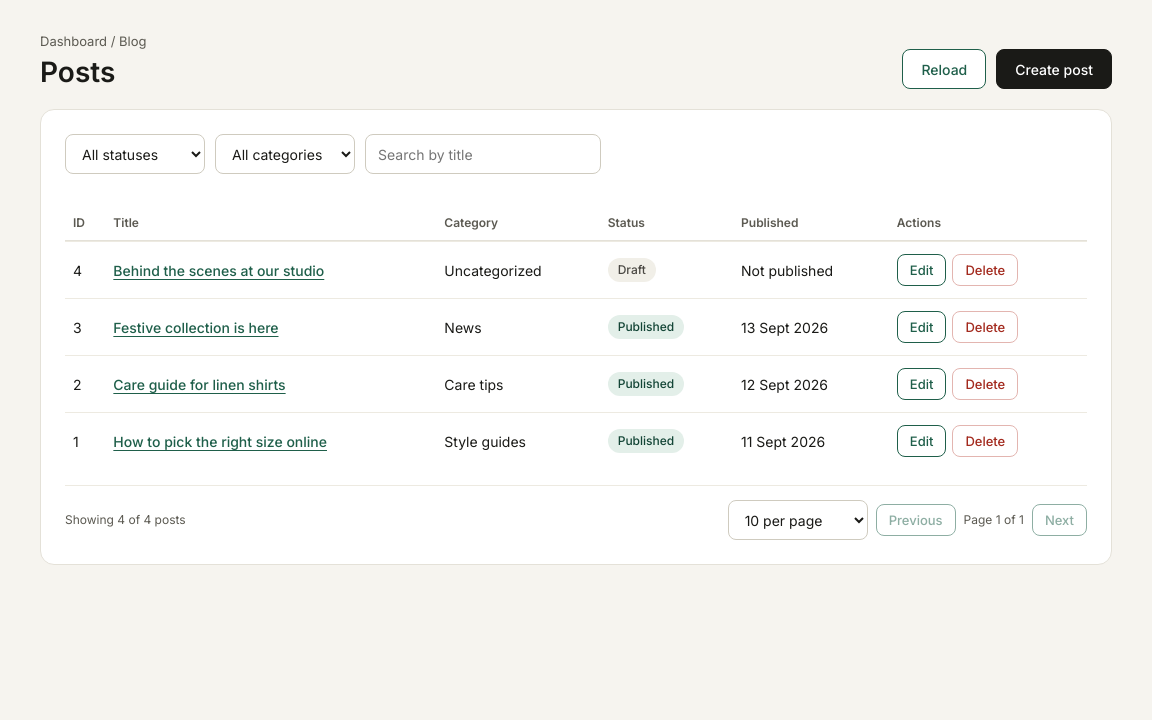
Test case: Posts › lists posts and filters by search
Check: the button "Care guide for linen shirts" is shown, box [113,374,286,395]
In the search field named "Search posts by title": (483, 154) [365,134,601,174], type "festive"
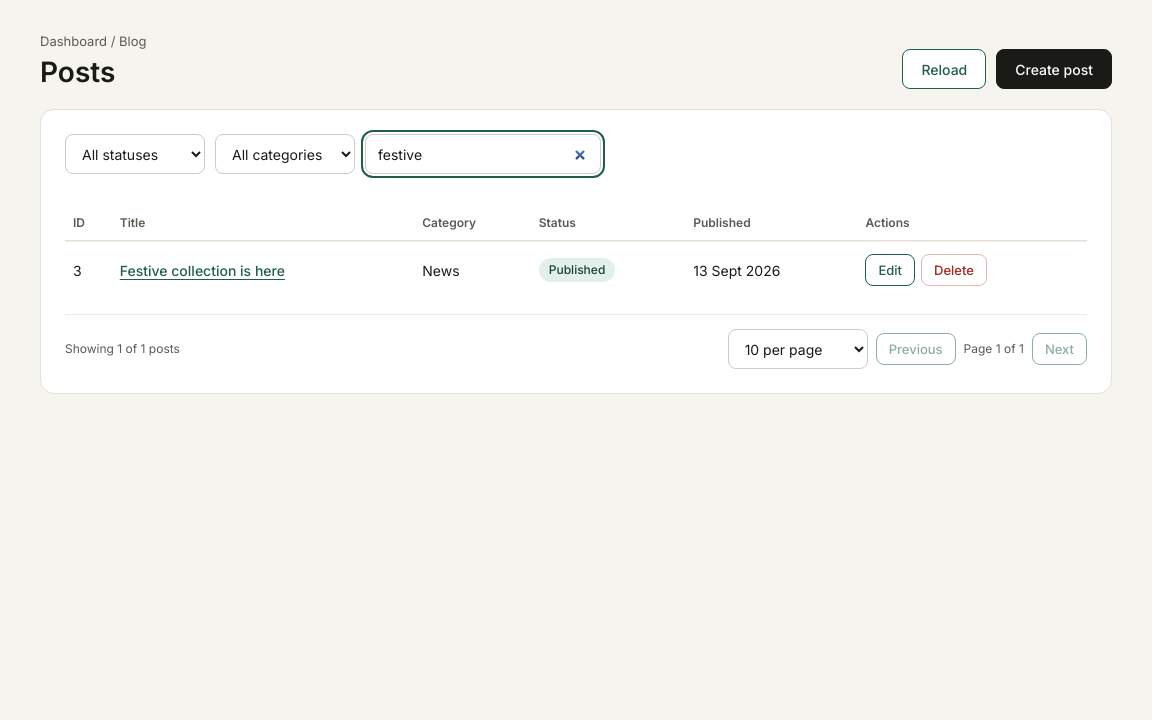
Check: the button "Festive collection is here" is shown, box [120,260,285,281]
Check: the button "Care guide for linen shirts" is gone
